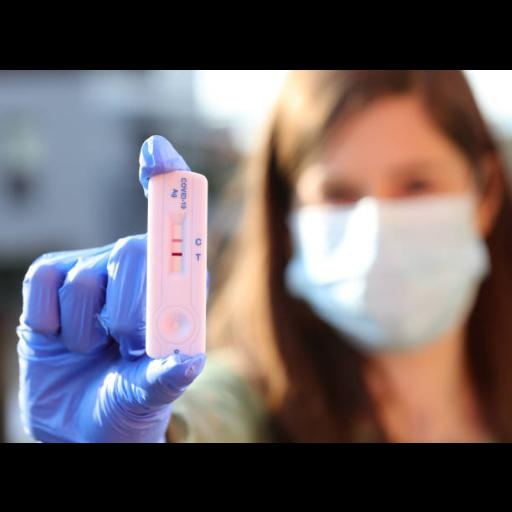Pos: (148, 171, 208, 355)
